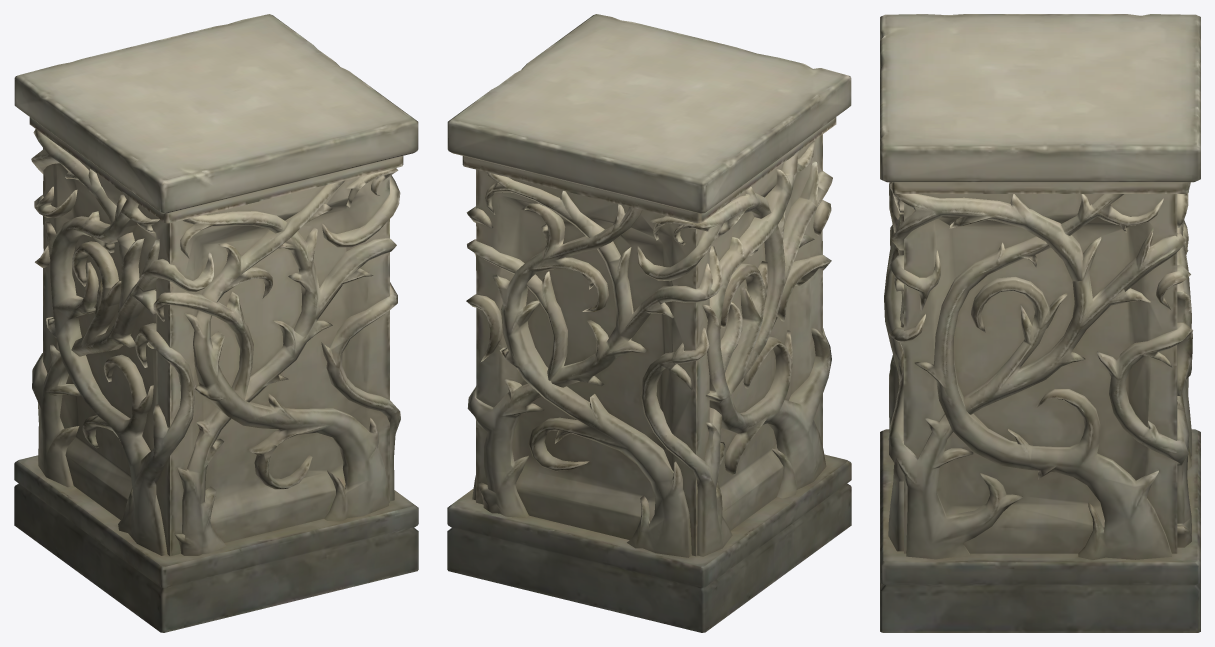
The picture shows the model from 3 angles, left to right: view 1: azimuth 30°, elevation 25°; view 2: azimuth 150°, elevation 25°; view 3: azimuth 270°, elevation 25°; orthographic projection. The views are drawn at different scales.
Visible parts, largest first — view 1: SM_Health_Shrine_Base_LOD0; view 2: SM_Health_Shrine_Base_LOD0; view 3: SM_Health_Shrine_Base_LOD0.
Part boxes in pixels (bbox=[...]): SM_Health_Shrine_Base_LOD0: bbox=[14, 14, 418, 632]; SM_Health_Shrine_Base_LOD0: bbox=[447, 14, 851, 632]; SM_Health_Shrine_Base_LOD0: bbox=[880, 14, 1200, 632].
Size of the model in its own units: 0.54 by 0.9 by 0.5401.
Materials: 1 (1 with a texture image).
